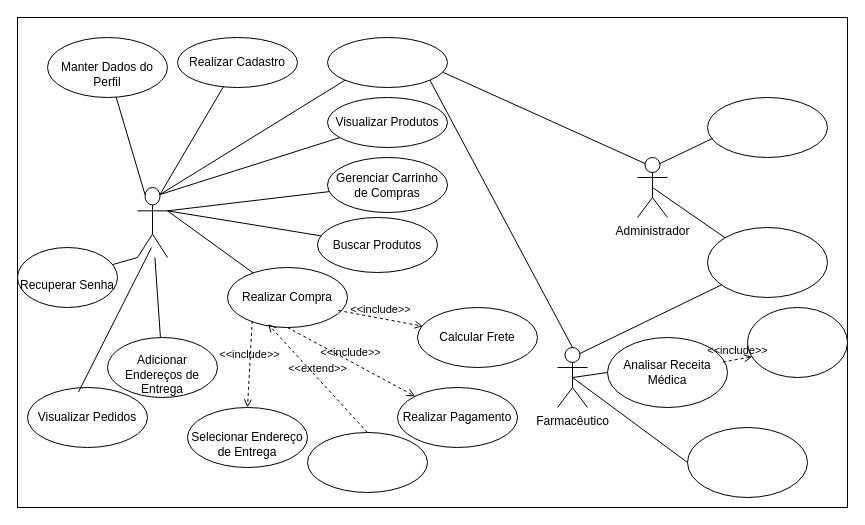
Some shapes in this 865 by 525 pixel diagram are drawn without their labels. Here are the shapes that lost their labels. From the top down, the centre of each, then its label:
At (387,62): "Efetuar Login".
At (767,127): "Manter Produtos".
At (152,222): "Cliente".
At (767,262): "Atualizar Status do Pedido".
At (797,342): "Visualizar Detalhes da Receita".
At (367,462): "Enviar Receita Médica".
At (747,462): "Consultar Histórico de Analises".
